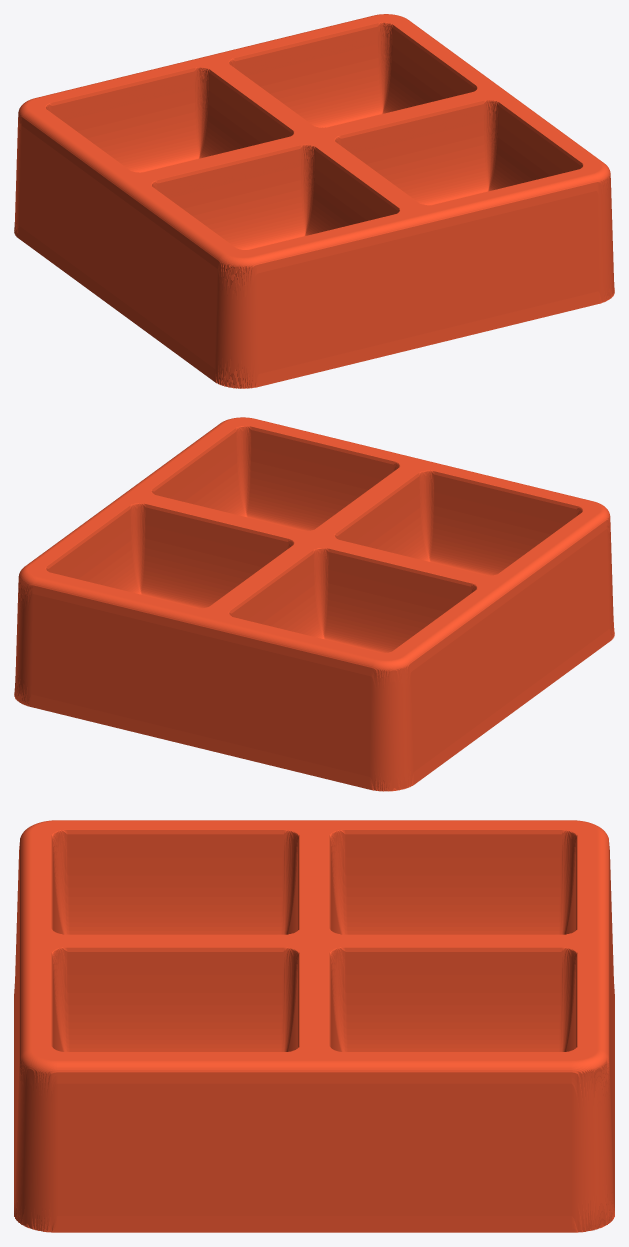
The model's file is mold.glb.
3 views of the same model, one above another, from view 1: azimuth 30°, elevation 25°; view 2: azimuth 150°, elevation 25°; view 3: azimuth 270°, elevation 25° (orthographic). The views are drawn at different scales.
Parts seen in each view (by area): view 1: geometry_0; view 2: geometry_0; view 3: geometry_0.
Boxes of the visible parts, box(x1,y1,x2,y2) form: geometry_0: box(14, 14, 614, 388); geometry_0: box(14, 417, 614, 791); geometry_0: box(14, 820, 614, 1232).
Bounding box in the file's own units: 0.1248 × 0.0378 × 0.1248.
